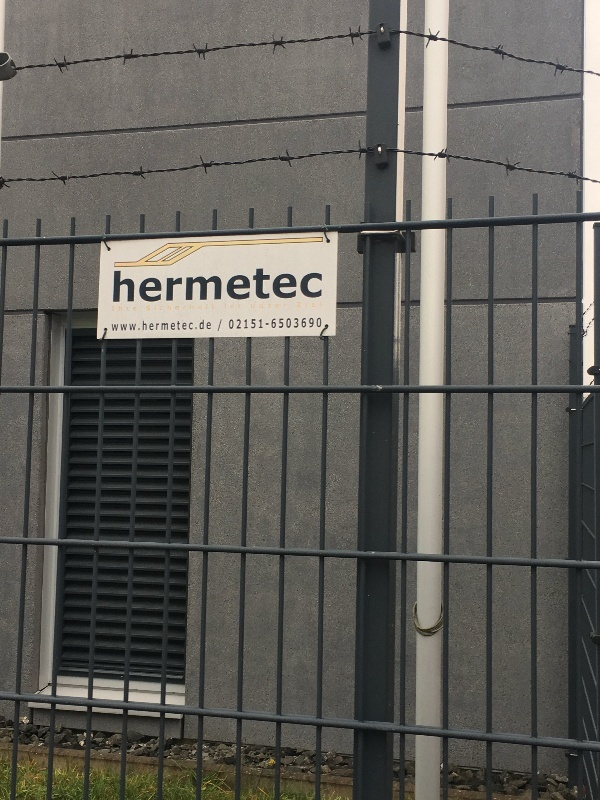text: (113, 264, 128, 306), (129, 264, 144, 306), (145, 264, 160, 306), (161, 264, 176, 306), (177, 264, 192, 306), (193, 264, 208, 306), (209, 264, 224, 306), (225, 264, 240, 306), (241, 264, 256, 306), (257, 264, 272, 306), (273, 264, 288, 306), (289, 264, 304, 306), (305, 264, 320, 306), (113, 319, 128, 333), (129, 319, 144, 333), (145, 319, 160, 333), (161, 319, 176, 333), (177, 319, 192, 333), (193, 319, 208, 333), (241, 318, 256, 331), (273, 317, 288, 329), (289, 317, 304, 329), (305, 317, 320, 329), (229, 318, 240, 331), (161, 303, 176, 312), (177, 303, 192, 312), (193, 303, 208, 312), (321, 264, 324, 306), (113, 305, 128, 313), (147, 303, 160, 312), (257, 302, 272, 309), (305, 301, 320, 308), (273, 302, 287, 309), (225, 303, 241, 309), (257, 318, 263, 331), (129, 305, 137, 313), (220, 319, 224, 333), (209, 303, 215, 312), (297, 301, 304, 308), (209, 319, 212, 333), (251, 302, 256, 309), (265, 323, 272, 326), (111, 319, 112, 333), (271, 317, 272, 329), (321, 317, 322, 329), (321, 301, 322, 308)
